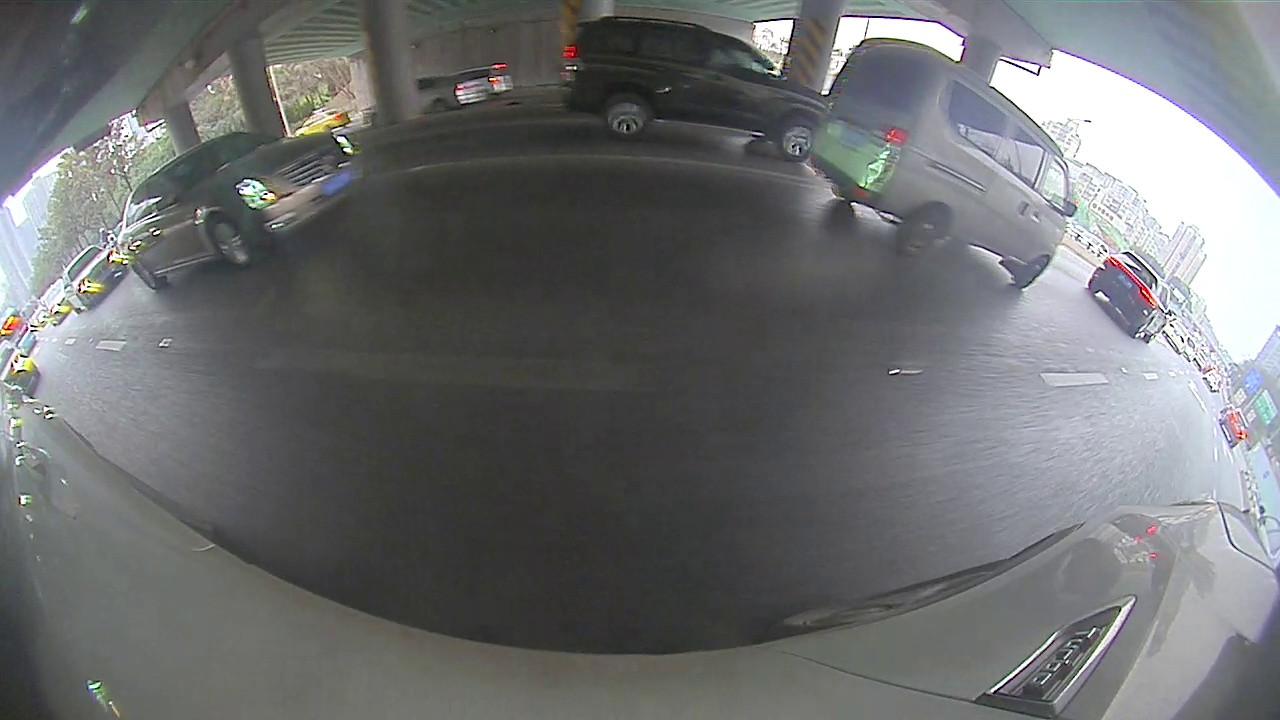car: (806, 35, 1079, 288), (557, 11, 829, 164), (118, 130, 368, 293), (1087, 248, 1172, 345), (59, 245, 128, 311), (1, 339, 41, 400)
front: (205, 213, 255, 272), (778, 120, 817, 162), (1016, 256, 1048, 288)
rear: (897, 204, 953, 260), (601, 90, 654, 141), (129, 254, 163, 292)
